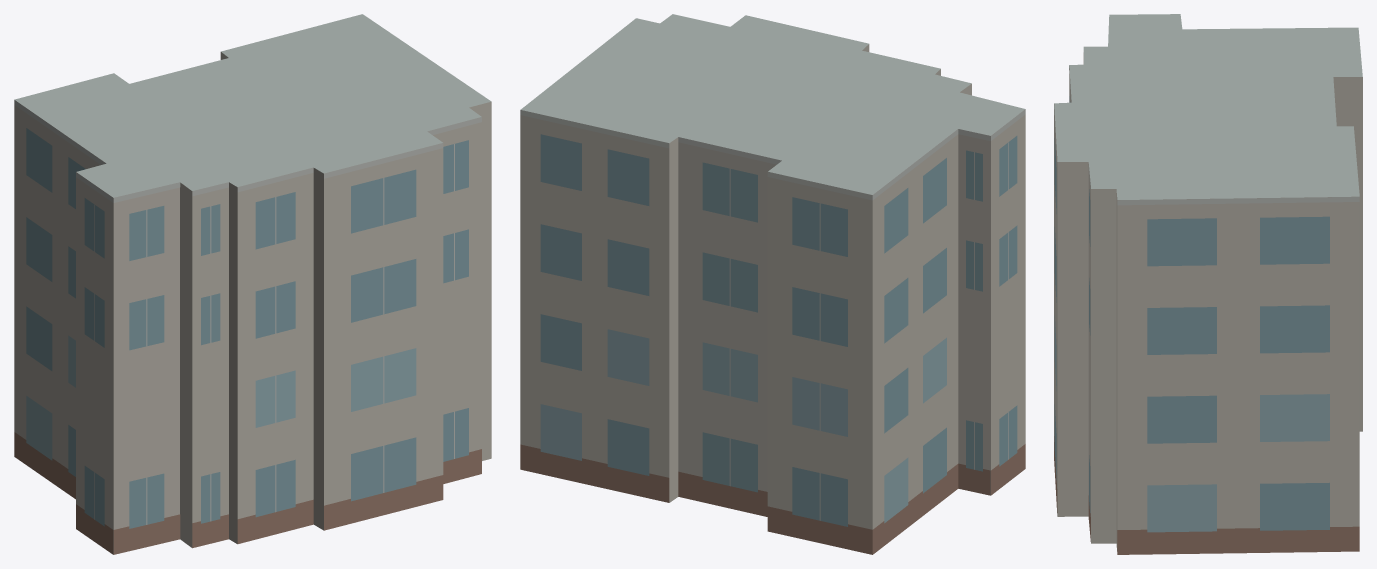
Rendered from survey-upis-32963362.glb.
3 renders of one model, left to right at view 1: azimuth 30°, elevation 25°; view 2: azimuth 150°, elevation 25°; view 3: azimuth 270°, elevation 25°, orthographic.
Visible parts, largest first — view 1: survey-upis-32963362.tmp; view 2: survey-upis-32963362.tmp; view 3: survey-upis-32963362.tmp.
Part boxes in pixels (x1,y1,x2,y2): survey-upis-32963362.tmp: (14, 14, 491, 554); survey-upis-32963362.tmp: (520, 14, 1025, 554); survey-upis-32963362.tmp: (1054, 14, 1362, 554).
Size of the model in its own units: 18.57 by 16.5 by 13.02.
